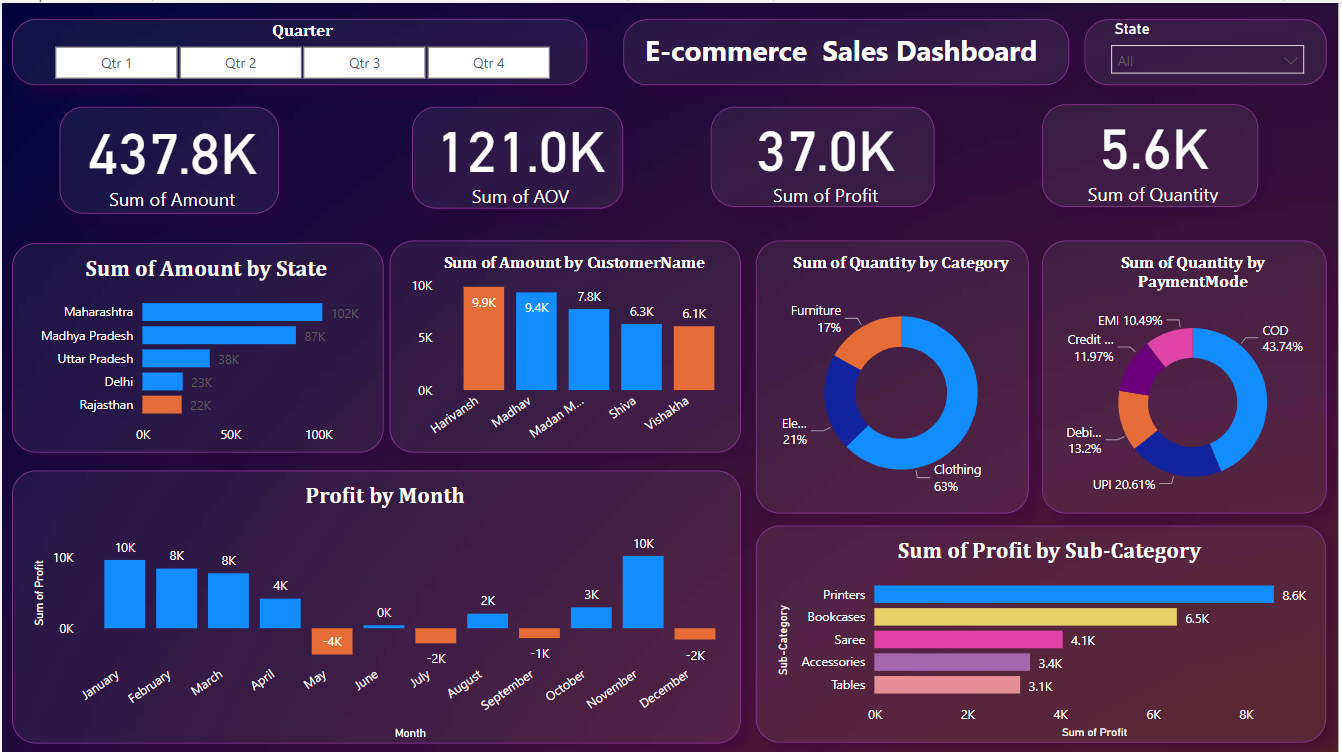

Layout of this report page (visuals, bound fields, positions):
{"tool":"powerbi","page":{"name":"Page 1","canvas":[1280,720],"ordinal":0},"visuals":[{"type":"textbox","box":[595,15.5,427.2,63.1],"z":0},{"type":"columnChart","title":"Profit by Month ","fields":{"Category":["Orders.Order Date.Variation.Date Hierarchy.Month"],"Y":["Details.Profit"]},"box":[9.5,447.5,698.6,261.8],"z":1000},{"type":"clusteredBarChart","fields":{"Category":["Details.Sub-Category"],"Y":["Details.Profit"]},"box":[722.4,501,546.2,208.3],"z":2000},{"type":"donutChart","fields":{"Category":["Details.Category"],"Y":["Details.Quantity"]},"box":[722.4,227.3,261.8,261.8],"z":3000},{"type":"donutChart","fields":{"Category":["Details.PaymentMode"],"Y":["Details.Quantity"]},"box":[996.1,227.3,272.5,261.8],"z":4000},{"type":"card","fields":{"Values":["Details.Amount"]},"box":[54.7,100,210.6,102.3],"z":5000},{"type":"card","fields":{"Values":["Details.Profit"]},"box":[679.5,100,214.2,96.4],"z":6000},{"type":"card","fields":{"Values":["Details.Quantity"]},"box":[996.1,97.6,207.1,98.8],"z":7000},{"type":"card","fields":{"Values":["Details.AOV"]},"box":[392.7,100,202.3,97.6],"z":8000},{"type":"clusteredBarChart","fields":{"Category":["Orders.State"],"Y":["Details.Amount"]},"box":[9.5,229.7,355.8,201.1],"z":9000},{"type":"columnChart","fields":{"Category":["Orders.CustomerName"],"Y":["Details.Amount"]},"box":[371.3,227.3,336.8,203.5],"z":10000},{"type":"slicer","title":"Quarter","fields":{"Values":["Orders.Order Date.Variation.Date Hierarchy.Quarter"]},"box":[9.5,15.5,551,63.1],"z":11000},{"type":"slicer","fields":{"Values":["Orders.State"]},"box":[1036.6,15.5,232.1,63.1],"z":12000}]}

Visuals, with their boxes in screenshot pixels (x1, y1, x2, y2), scaled from the page's 1280x720 canvas onto the 1342x752 screenshot:
textbox: <box>624,16,1072,82</box>
"Profit by Month " columnChart: <box>10,467,742,741</box>
clusteredBarChart - Details.Sub-Category x Details.Profit: <box>757,523,1330,741</box>
donutChart - Details.Category x Details.Quantity: <box>757,237,1032,511</box>
donutChart - Details.PaymentMode x Details.Quantity: <box>1044,237,1330,511</box>
card - Details.Amount: <box>57,104,278,211</box>
card - Details.Profit: <box>712,104,937,205</box>
card - Details.Quantity: <box>1044,102,1261,205</box>
card - Details.AOV: <box>412,104,624,206</box>
clusteredBarChart - Orders.State x Details.Amount: <box>10,240,383,450</box>
columnChart - Orders.CustomerName x Details.Amount: <box>389,237,742,450</box>
"Quarter" slicer: <box>10,16,588,82</box>
slicer - Orders.State: <box>1087,16,1330,82</box>
